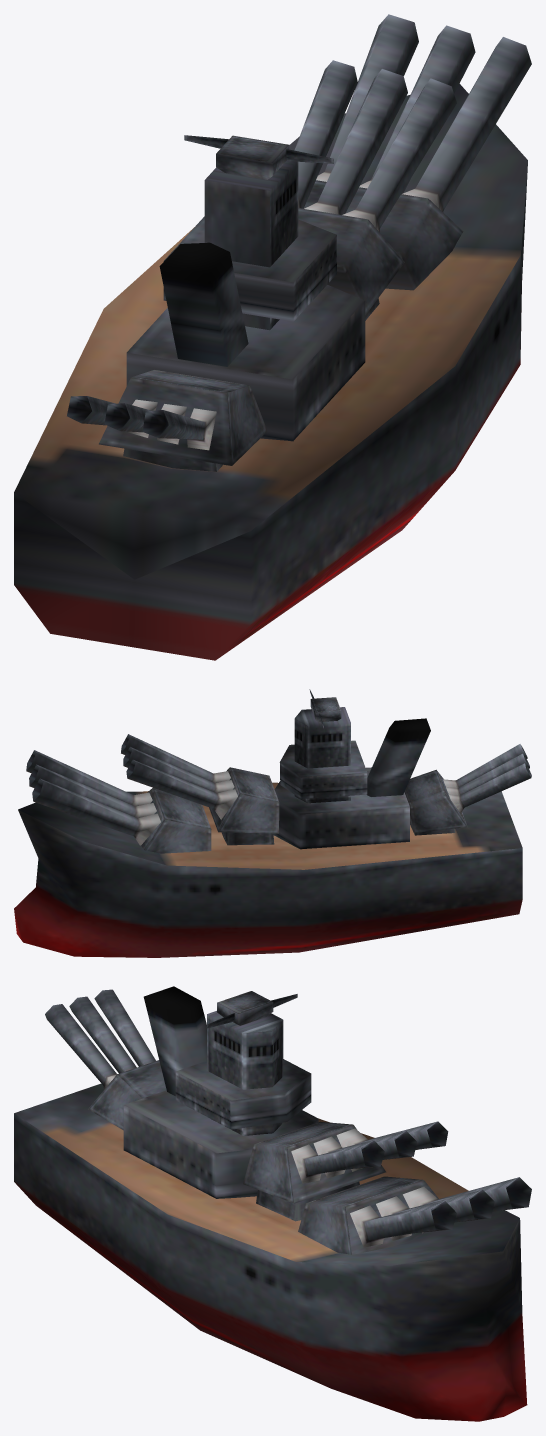
The model's file is mc.ico.obj.
3 renders of one model, top to bottom at view 1: azimuth 30°, elevation 25°; view 2: azimuth 150°, elevation 25°; view 3: azimuth 270°, elevation 25°, orthographic. The views are drawn at different scales.
Size of the model in its own units: 4.66 by 2.45 by 4.02.
Materials: 1 (1 with a texture image).
